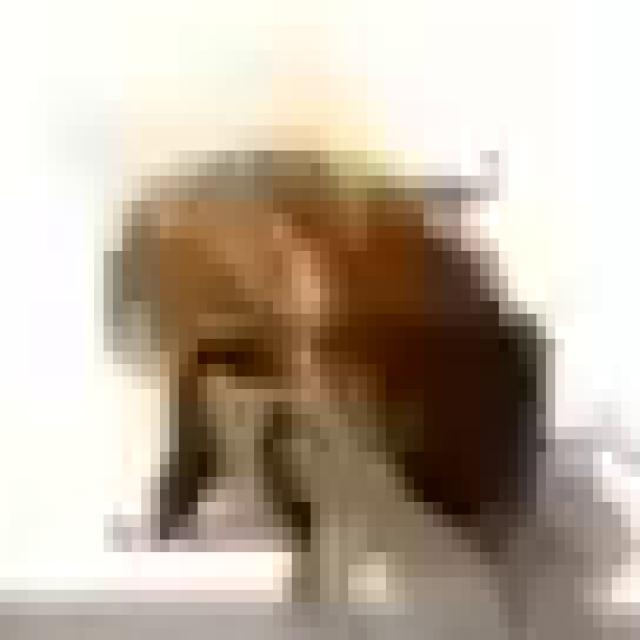honeybee: (84, 125, 640, 539)
